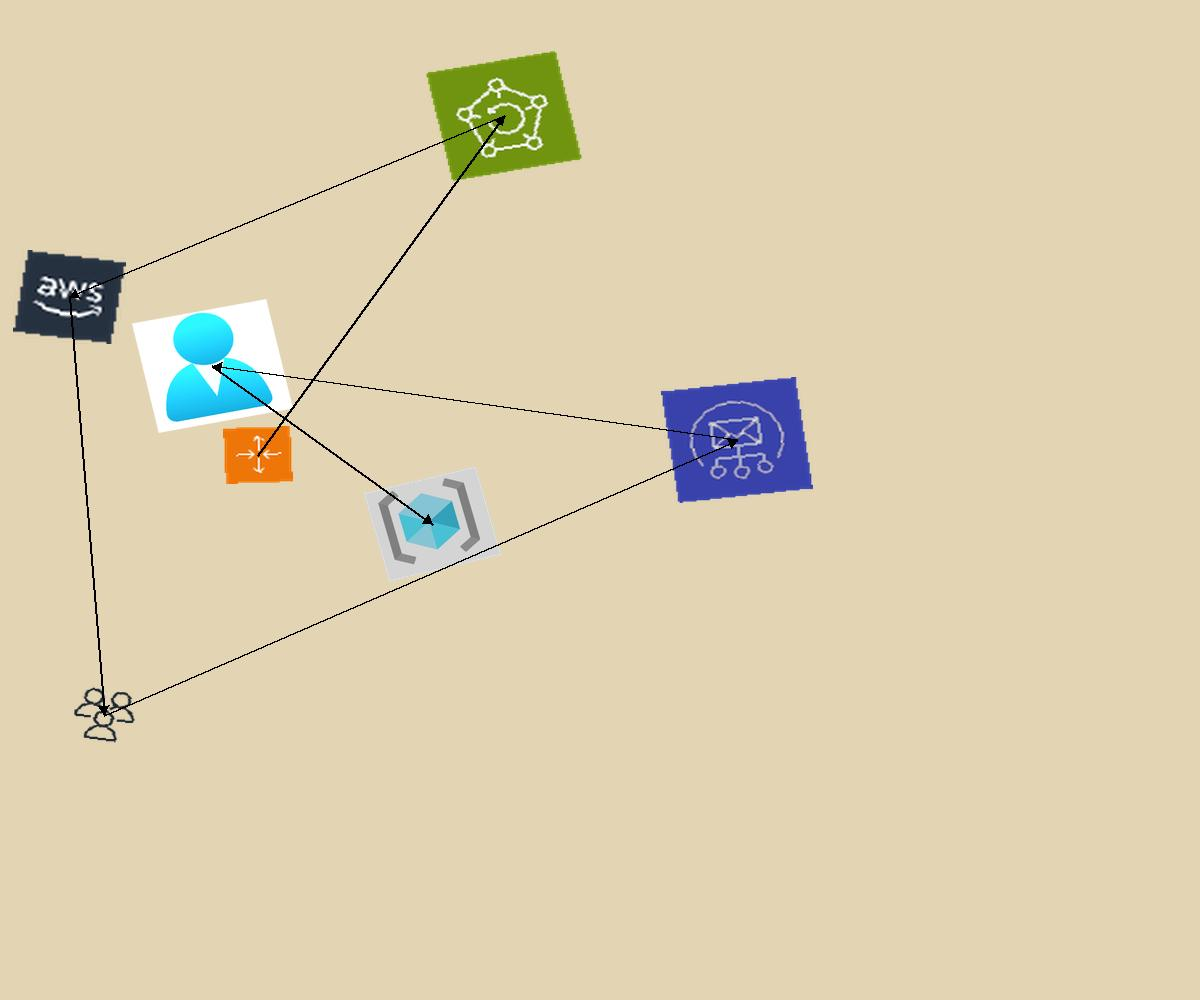AWS-Backup: (425, 50, 583, 182)
AWS-Cloud-logo: (13, 250, 126, 344)
AWS-Res_Users: (66, 683, 143, 747)
AWS-Scaling-group: (223, 426, 293, 484)
AWS-Simple-Email-Service: (661, 377, 813, 503)
Azure_resource_group: (363, 466, 502, 582)
Azure_users: (132, 299, 293, 433)
